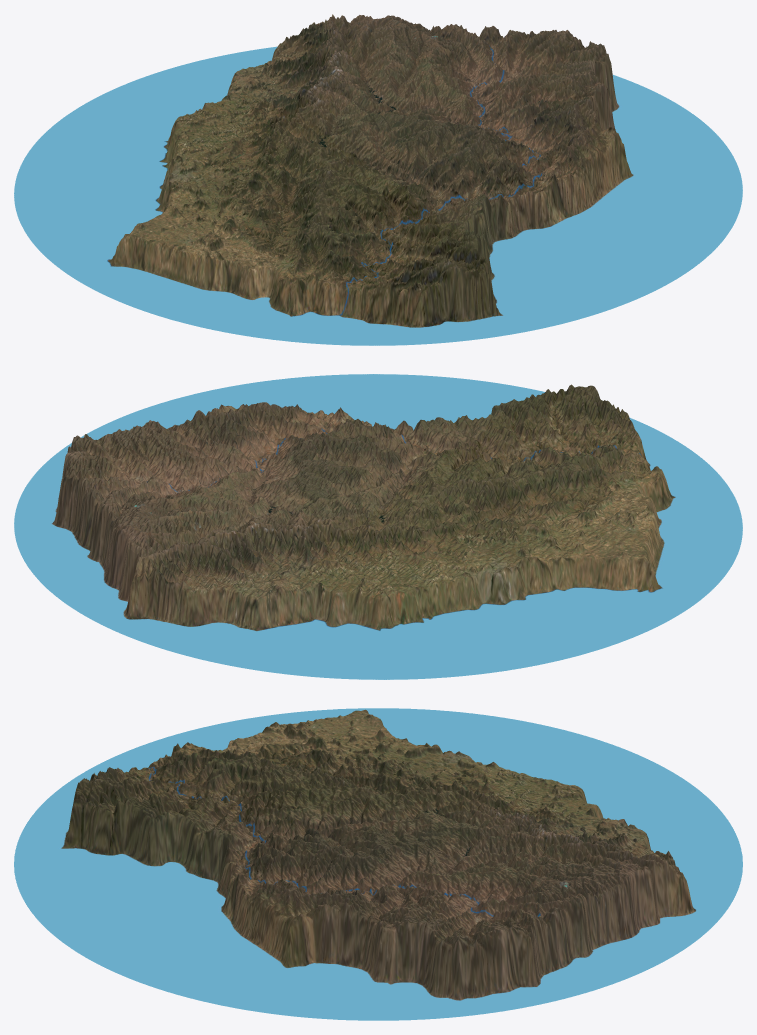
Rendered from LSO-previa-terrain.glb.
The picture shows the model from 3 angles, top to bottom: view 1: azimuth 30°, elevation 25°; view 2: azimuth 150°, elevation 25°; view 3: azimuth 270°, elevation 25°; orthographic projection.
Parts seen in each view (by area): view 1: Lesoto; view 2: Lesoto; view 3: Lesoto.
Part boxes in pixels (x1,y1,x2,y2): Lesoto: (14,14,742,345); Lesoto: (14,374,742,679); Lesoto: (14,708,742,1020).
Bounding box in the file's own units: 2.02 × 0.1788 × 1.99.
Materials: 1 (1 with a texture image).
